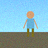person: (23, 11, 38, 36)
